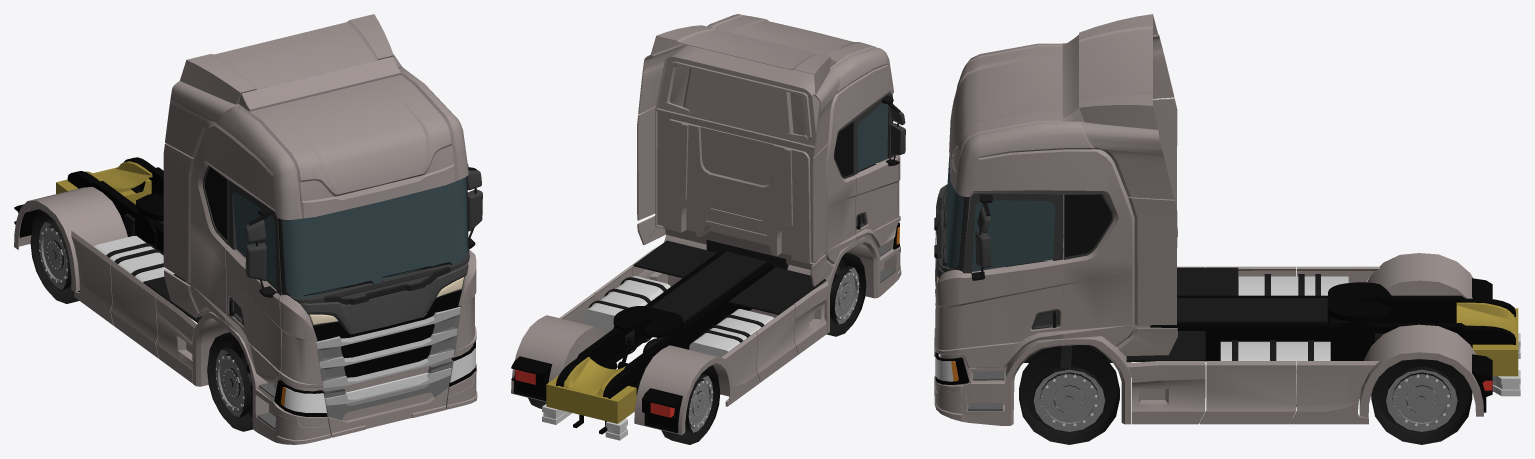
The model's file is truck-04.glb.
3 views of the same model, side by side, from view 1: azimuth 30°, elevation 25°; view 2: azimuth 150°, elevation 25°; view 3: azimuth 270°, elevation 25° (orthographic). The views are drawn at different scales.
Parts seen in each view (by area): view 1: Body.001, Vert.041, Vert.035, Chassis.001, Chassis.002, Chassis.006, Vert.002, Vert.033, Plane, Vert.034, Vert.037, Circle.002 (+31 smaller); view 2: Body.004, Body.001, Plane.013, Chassis.006, Chassis.002, Cube.032, Vert.035, Chassis.005, Vert.033, Chassis.001, Vert.034, Chassis.007 (+16 smaller); view 3: Body.001, Chassis.002, Circle.022, Chassis.006, Cube.032, Vert.035, Vert.033, Plane.013, Circle.041, Vert.037, Chassis.001, Vert.034 (+12 smaller).
Part boxes in pixels (x1,y1,x2,y2): Body.001: (185, 67, 476, 388); Vert.041: (282, 177, 467, 298); Vert.035: (180, 14, 393, 104); Chassis.001: (192, 311, 477, 444); Chassis.002: (71, 231, 196, 383); Chassis.006: (14, 187, 127, 291); Vert.002: (300, 262, 468, 334); Vert.033: (163, 143, 194, 282); Plane: (239, 56, 402, 111); Vert.034: (165, 54, 402, 157); Vert.037: (228, 179, 468, 295); Circle.002: (207, 332, 252, 431); Body.004: (655, 57, 817, 264); Body.001: (665, 14, 900, 269); Plane.013: (633, 240, 825, 323); Chassis.006: (511, 315, 733, 435); Chassis.002: (559, 245, 828, 406); Cube.032: (556, 251, 773, 398); Vert.035: (650, 25, 830, 96); Chassis.005: (546, 357, 636, 423); Vert.033: (637, 106, 828, 263); Chassis.001: (664, 224, 901, 333); Vert.034: (638, 44, 840, 156); Chassis.007: (511, 356, 682, 432); Body.001: (935, 43, 1150, 368); Chassis.002: (1126, 266, 1379, 424); Circle.022: (1019, 345, 1472, 444); Chassis.006: (1359, 253, 1483, 417); Cube.032: (1150, 295, 1515, 361); Vert.035: (1079, 14, 1157, 129); Vert.033: (1128, 98, 1177, 325); Plane.013: (1126, 267, 1327, 361); Circle.041: (1033, 369, 1457, 431); Vert.037: (963, 193, 1063, 273); Chassis.001: (934, 248, 1131, 425); Vert.034: (1081, 34, 1174, 199).
Size of the model in its own units: 5.39 by 7.45 by 11.61.
